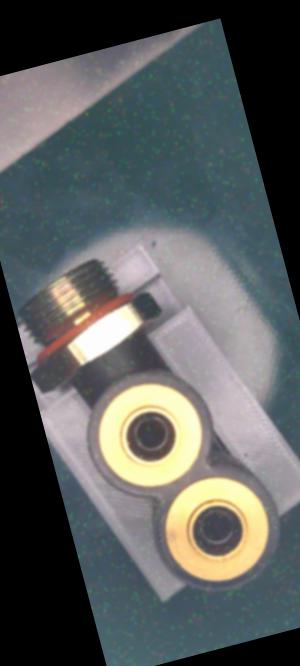craze: (98, 354, 112, 369)
